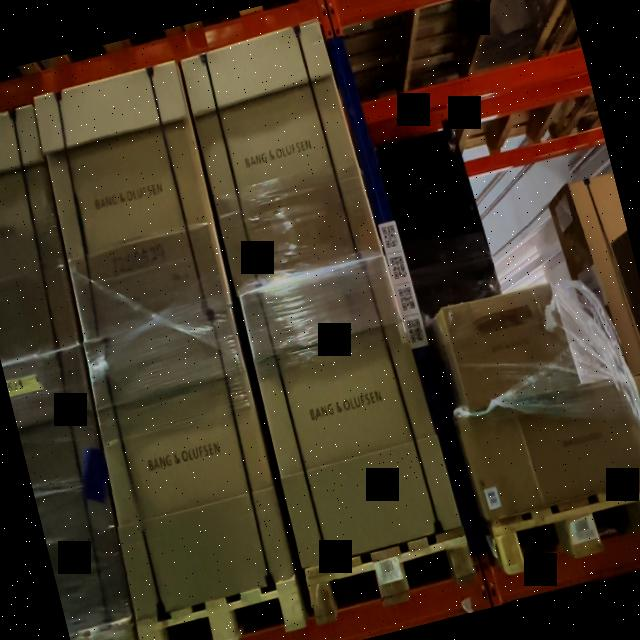box: (239, 259, 459, 562), (84, 309, 290, 620), (32, 63, 230, 338), (182, 19, 383, 289), (445, 282, 581, 411), (516, 384, 640, 505), (461, 403, 543, 520)
